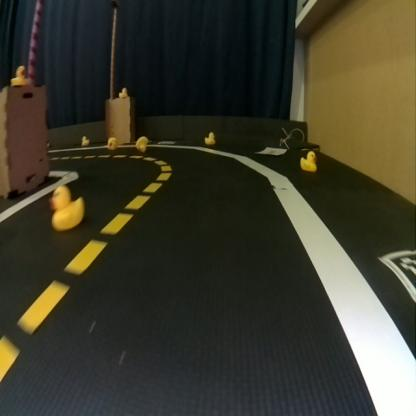Duckie: (50, 184, 84, 228), (10, 66, 26, 86), (300, 151, 315, 170), (135, 135, 148, 150), (204, 132, 214, 144), (106, 137, 116, 148), (81, 135, 89, 144), (118, 88, 127, 96)
QR code: (159, 138, 172, 146)
